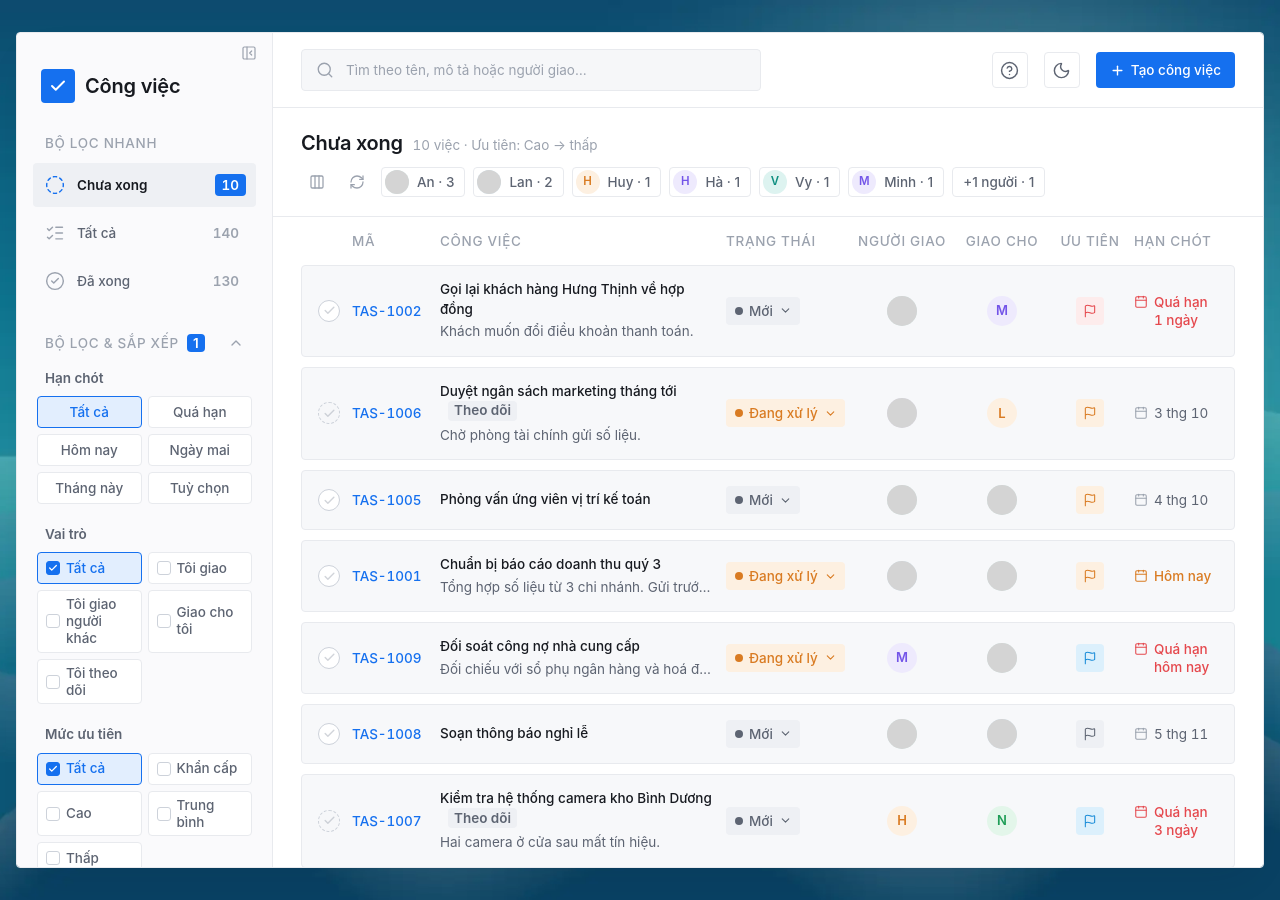
Test: tick, status and undo (AC8, AC9) › rolls back and explains when saving the status fails
What coordinates should you click on to do the following:
click the checkbox with test id "task-checkbox"
I would click on:
 (329, 500)
Its box is [318, 489, 340, 511].
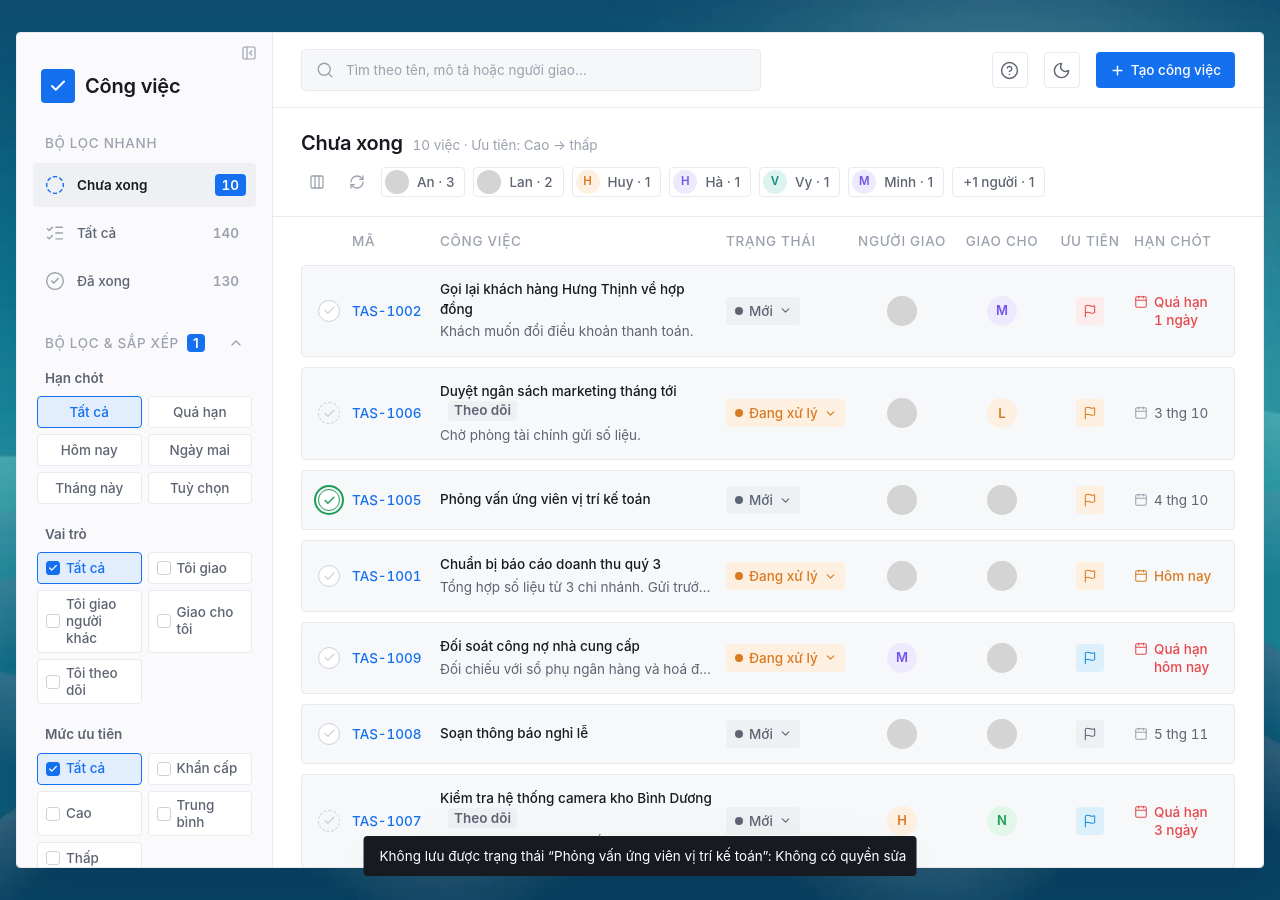
Expected: the text with test id "count-done" reads "130", [213, 273, 239, 289]
Now the message with test id "toast" shows "Không lưu được trạng thái “Phỏng vấn ứng viên vị trí kế toán”: Không có quyền sửa", box [380, 848, 906, 864]
